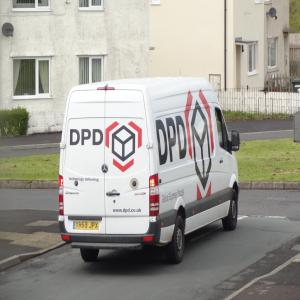Vehicle-registration-plate: (74, 221, 100, 229)
